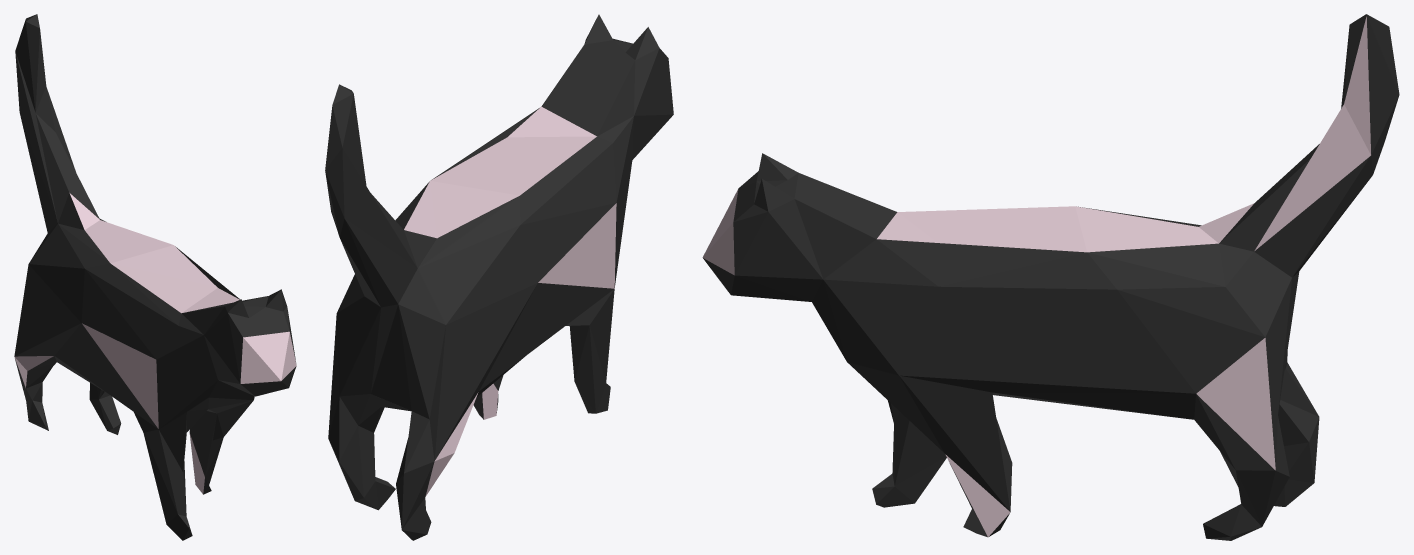
Rendered from cat.fbx.
The picture shows the model from 3 angles, left to right: view 1: azimuth 30°, elevation 25°; view 2: azimuth 150°, elevation 25°; view 3: azimuth 270°, elevation 25°; orthographic projection. The views are drawn at different scales.
Parts seen in each view (by area): view 1: Cat; view 2: Cat; view 3: Cat.
Part boxes in pixels (x1,y1,x2,y2): Cat: (14, 14, 296, 540); Cat: (325, 14, 673, 540); Cat: (702, 14, 1399, 540).
Size of the model in its own units: 36.01 by 128 by 157.
